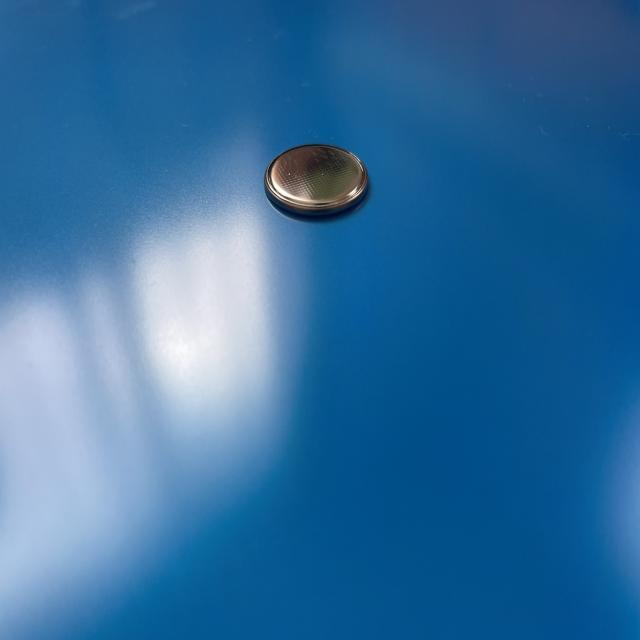COIN: (264, 141, 371, 221)
